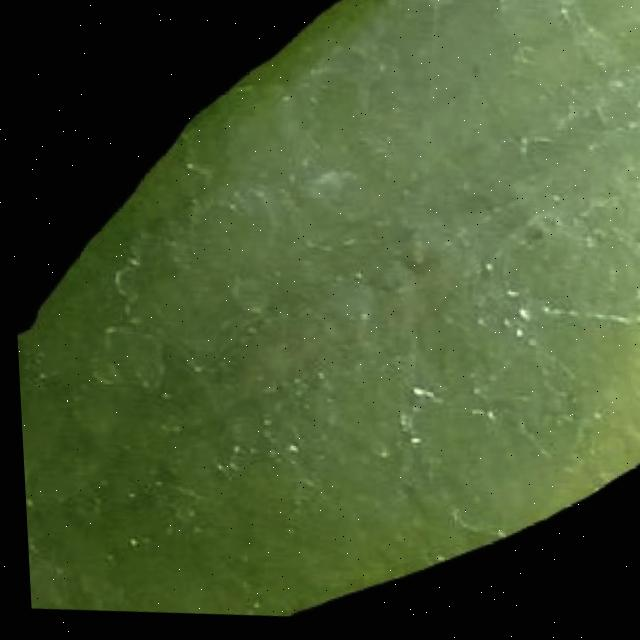mite: (15, 162, 24, 260), (17, 177, 34, 227), (359, 0, 432, 7), (17, 182, 22, 231), (18, 191, 22, 213)
spots: (12, 0, 640, 622)
